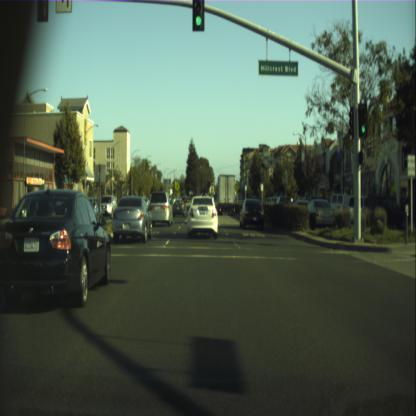Green: (192, 0, 204, 31), (358, 102, 367, 136)
off: (37, 0, 49, 22)
